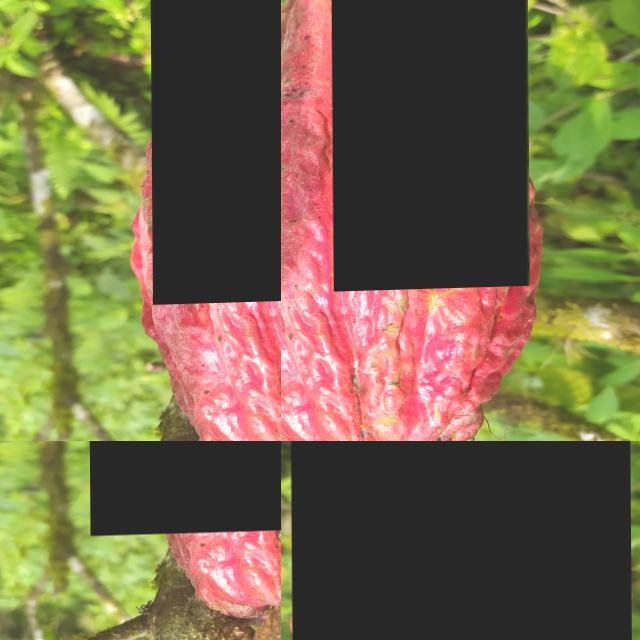Fitoftora: (150, 0, 281, 306), (281, 35, 338, 315)
Monilia: (462, 156, 494, 225), (319, 252, 341, 314)
Sana: (290, 441, 632, 640), (331, 0, 529, 293), (87, 441, 281, 536), (533, 370, 601, 441)
